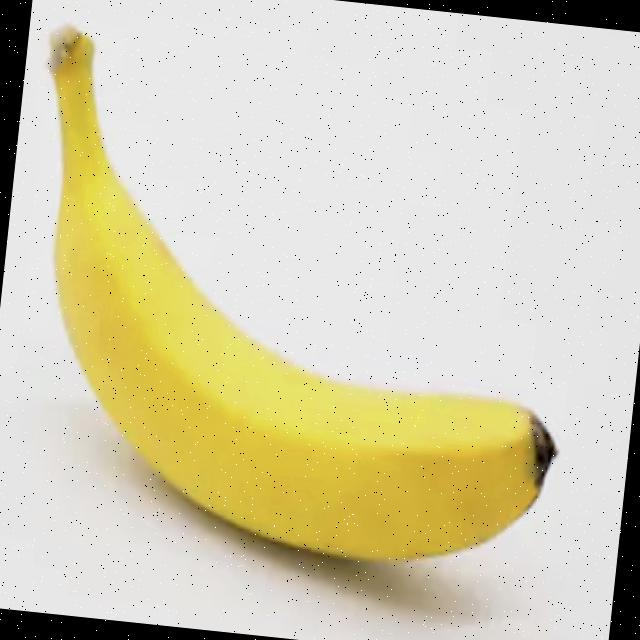Ripe: (0, 15, 602, 611)
